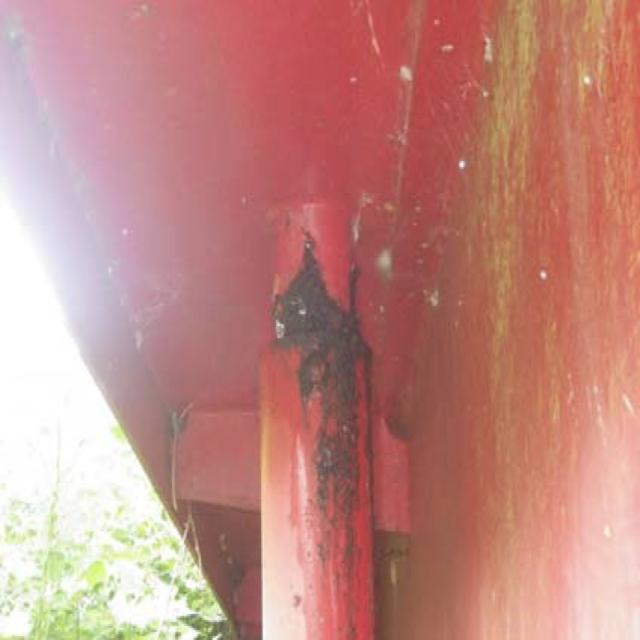corrosion: (264, 247, 379, 530)
